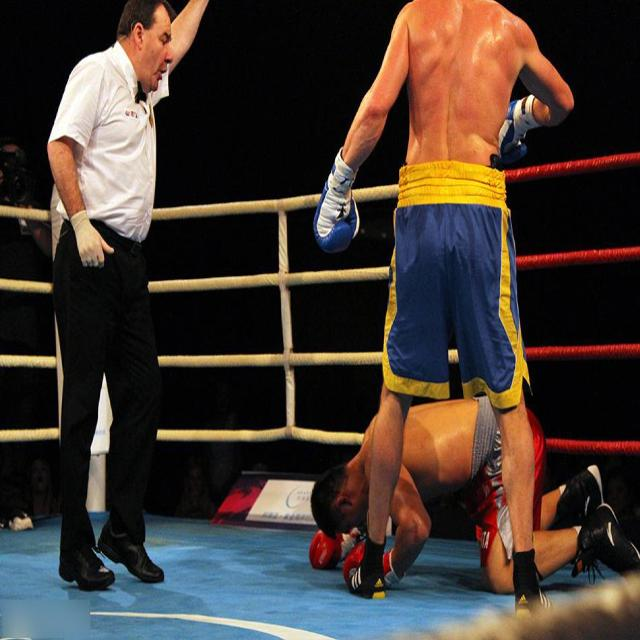obstacle: (19, 0, 218, 586)
